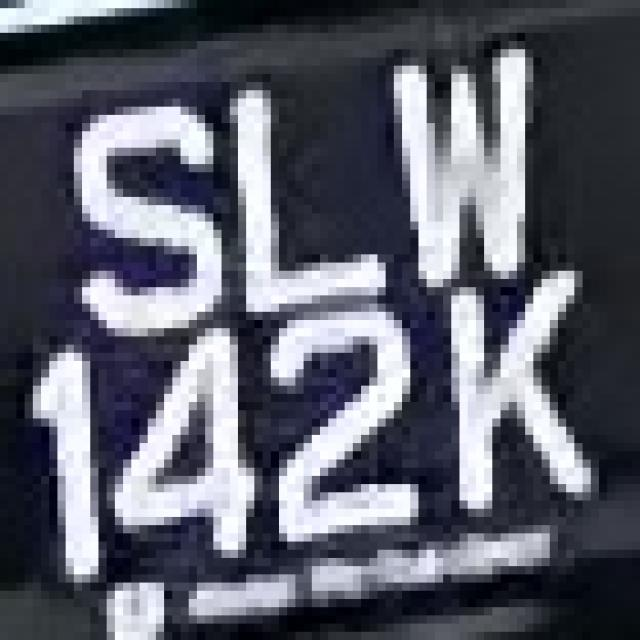1: (24, 328, 99, 599)
2: (238, 304, 451, 550)
4: (131, 320, 271, 574)
K: (427, 230, 599, 533)
L: (205, 58, 386, 336)
S: (41, 90, 230, 312)
W: (369, 41, 566, 295)
